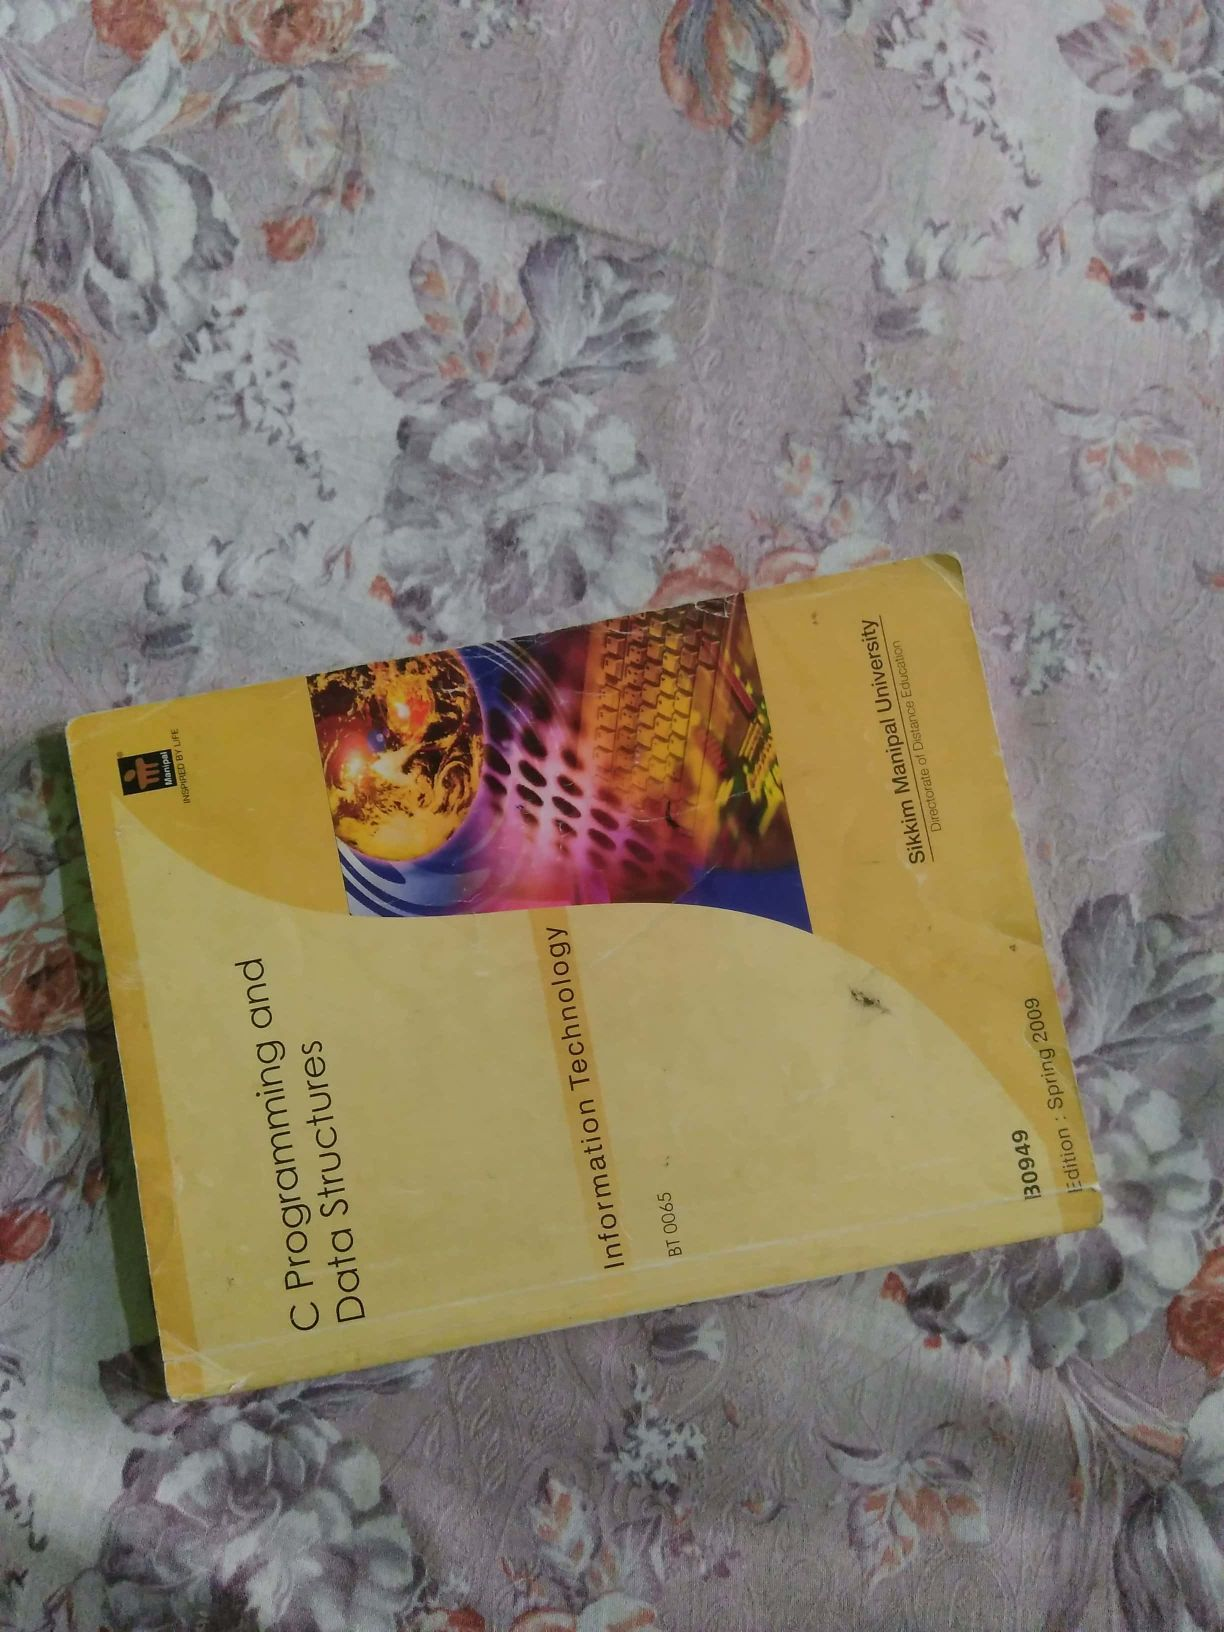clang: (59, 565, 1139, 1369)
